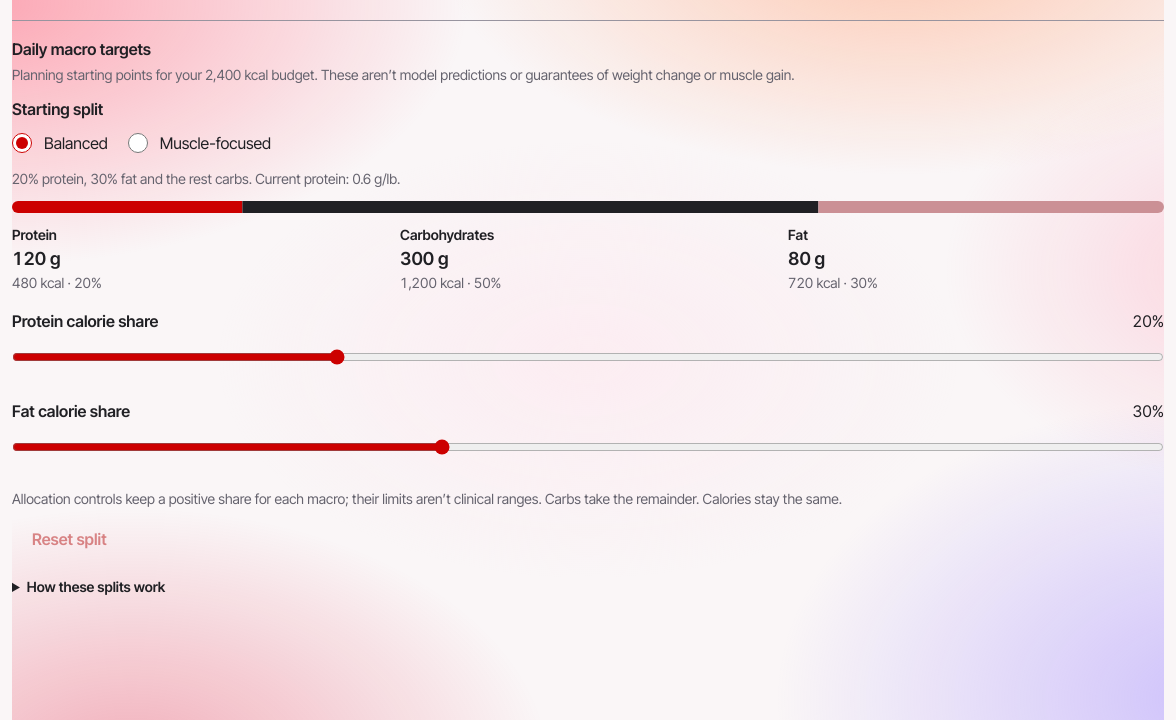
macro draft controls › applies a newly selected preset immediately after a custom edit
The image size is (1176, 720).
Set the slider labelled "Protein calorie share" to "25" at {"x": 421, "y": 357}, box 12,333 -> 1164,381
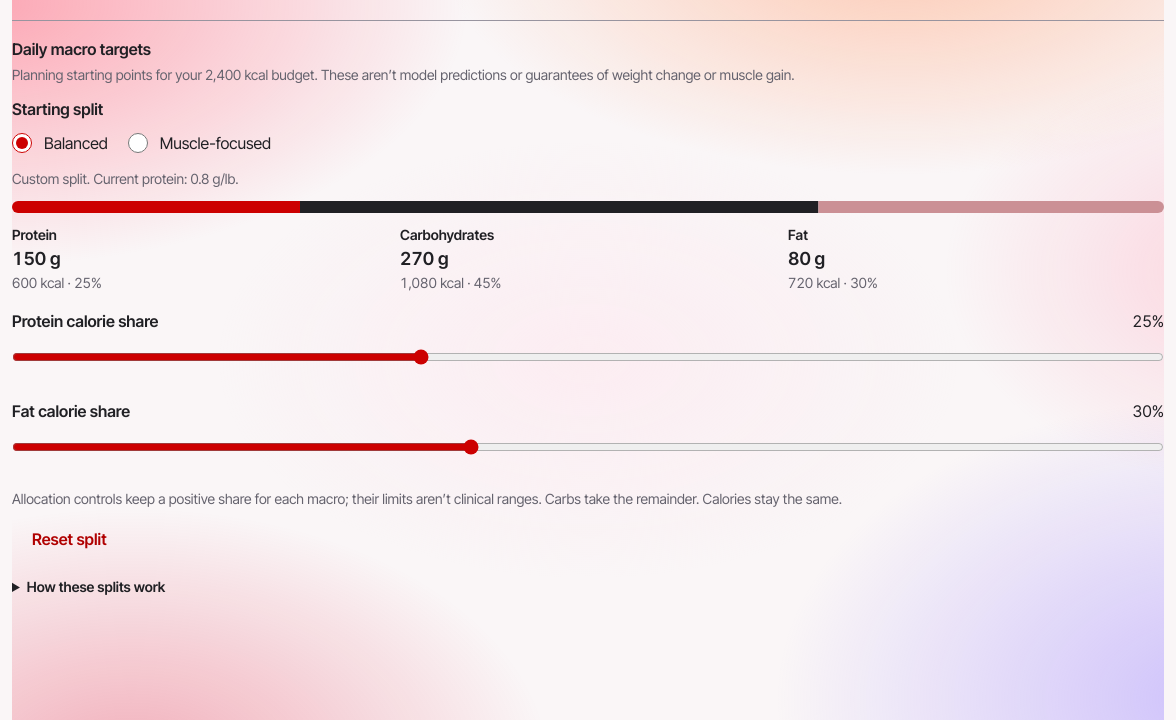
Check: the text "Custom split. Current protein: 0.8 g/lb." is shown, box 12,170 -> 239,187
Click the radio button labelled "Muscle-focused".
click(138, 143)  # box 128,133 -> 148,153
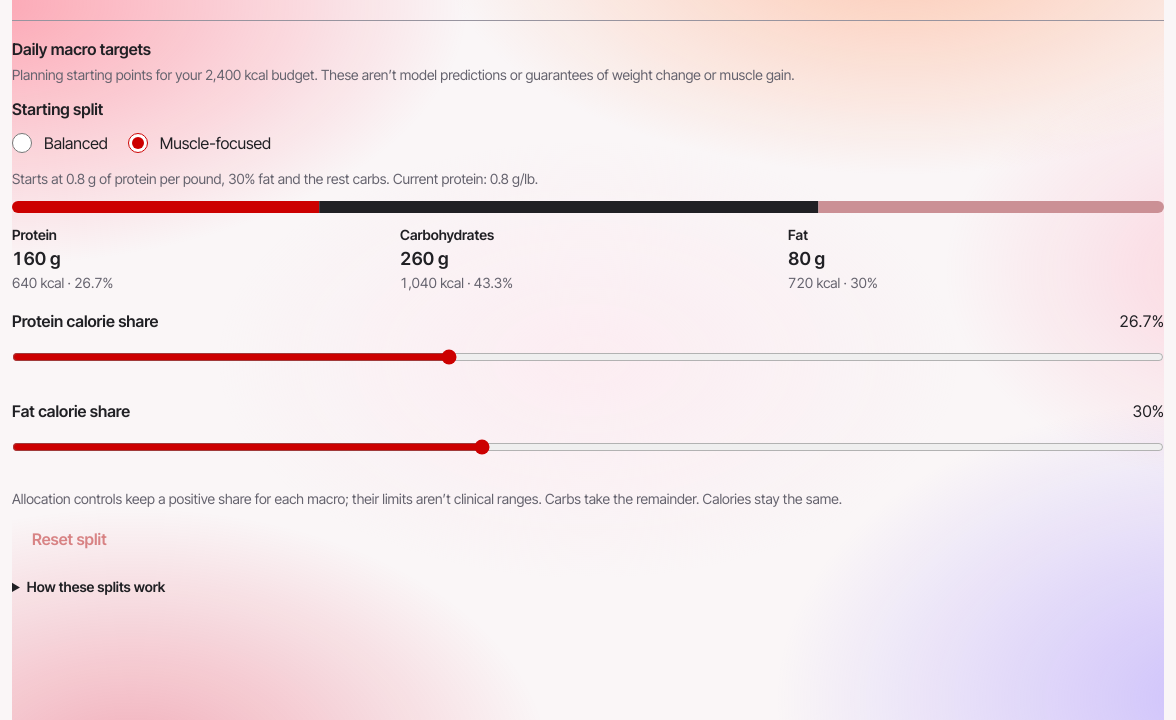
Check: the text "160 g" is shown, box 12,248 -> 60,269
Check: the text "Custom split" is gone
